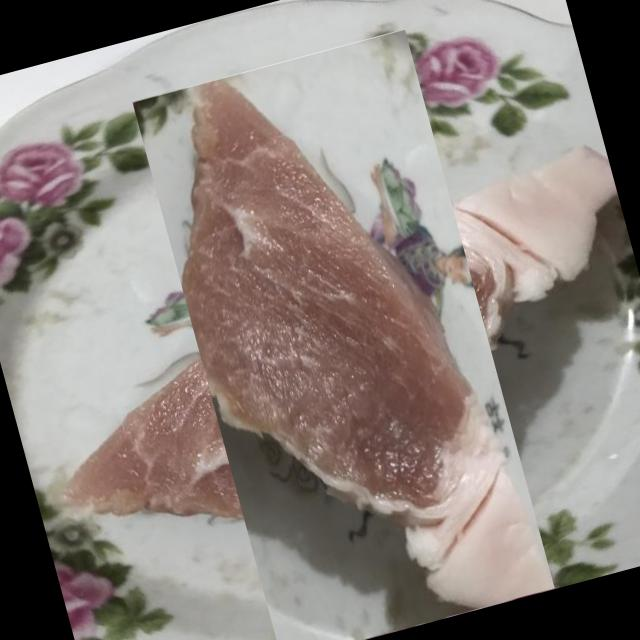chicken: (73, 87, 620, 632)
